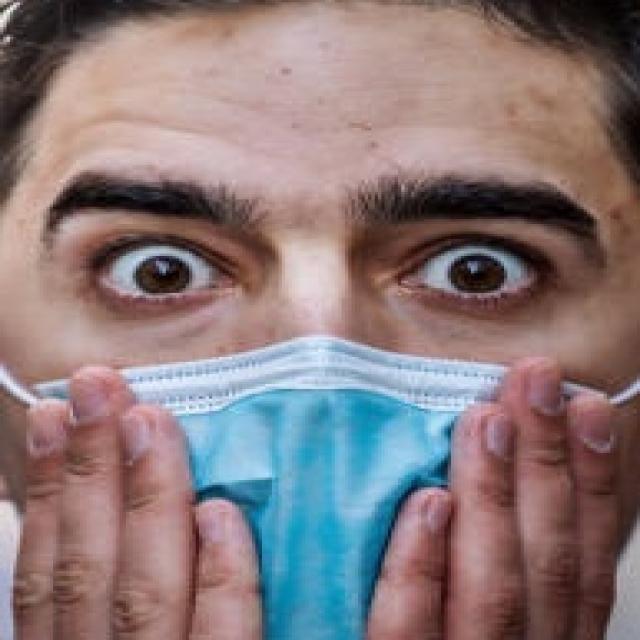Anxiety: (0, 0, 637, 638)
